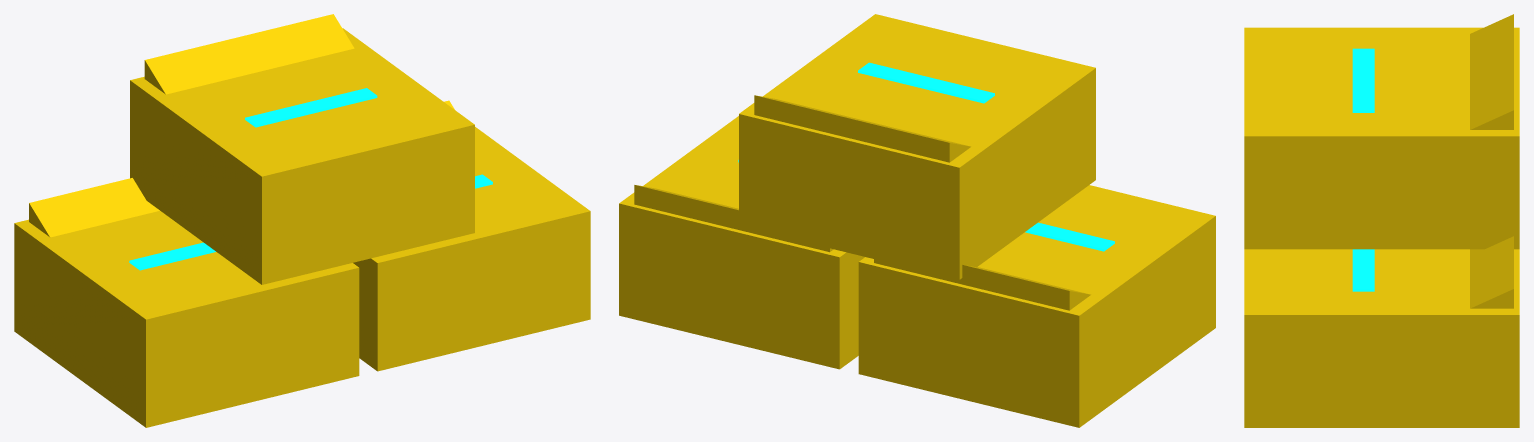
Rendered from Loot_GoldBullion.fbx.
3 renders of one model, left to right at view 1: azimuth 30°, elevation 25°; view 2: azimuth 150°, elevation 25°; view 3: azimuth 270°, elevation 25°, orthographic. The views are drawn at different scales.
Parts seen in each view (by area): view 1: Loot_GoldBullion__NeonGold, Loot_GoldBullion__NeonCyan; view 2: Loot_GoldBullion__NeonGold, Loot_GoldBullion__NeonCyan; view 3: Loot_GoldBullion__NeonGold, Loot_GoldBullion__NeonCyan.
Boxes of the visible parts, x1,y1,x2,y2 form: Loot_GoldBullion__NeonGold: [14, 14, 590, 427]; Loot_GoldBullion__NeonCyan: [129, 88, 492, 270]; Loot_GoldBullion__NeonGold: [619, 14, 1215, 427]; Loot_GoldBullion__NeonCyan: [738, 62, 1114, 251]; Loot_GoldBullion__NeonGold: [1244, 14, 1519, 427]; Loot_GoldBullion__NeonCyan: [1352, 48, 1374, 291].
Bounding box in the file's own units: 1.46 × 0.76 × 0.75.
